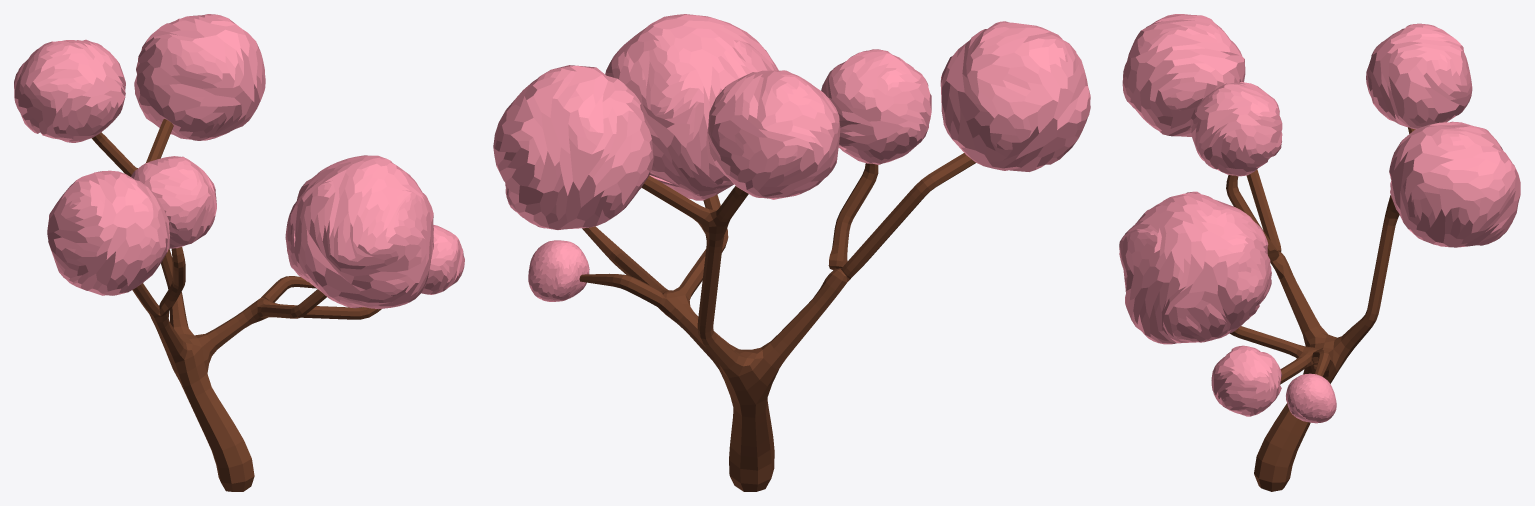
Rendered from Blossom Tree High.fbx.
3 renders of one model, left to right at view 1: azimuth 30°, elevation 25°; view 2: azimuth 150°, elevation 25°; view 3: azimuth 270°, elevation 25°, orthographic. The views are drawn at different scales.
Parts seen in each view (by area): view 1: DualMesh.004, DualMesh.009, Cube, DualMesh.019, DualMesh.013, DualMesh.016, DualMesh.006; view 2: Cube, DualMesh.009, DualMesh.019, DualMesh.004, DualMesh.013, DualMesh.016, DualMesh.020; view 3: DualMesh.004, DualMesh.009, Cube, DualMesh.019, DualMesh.013, DualMesh.016, DualMesh.006, DualMesh.020.
Part boxes in pixels (x1,y1,x2,y2): DualMesh.004: (285, 155, 433, 309); DualMesh.009: (134, 14, 265, 140); Cube: (91, 119, 381, 491); DualMesh.019: (47, 170, 170, 295); DualMesh.013: (14, 39, 125, 142); DualMesh.016: (131, 156, 216, 248); DualMesh.006: (421, 225, 464, 294); Cube: (579, 153, 975, 491); DualMesh.009: (493, 65, 653, 229); DualMesh.019: (940, 21, 1090, 171); DualMesh.004: (605, 14, 778, 200); DualMesh.013: (707, 70, 840, 199); DualMesh.016: (821, 49, 931, 164); DualMesh.020: (528, 240, 589, 301); DualMesh.004: (1119, 191, 1271, 344); DualMesh.009: (1389, 121, 1520, 247); Cube: (1226, 127, 1415, 491); DualMesh.019: (1122, 14, 1245, 136); DualMesh.013: (1366, 23, 1472, 129); DualMesh.016: (1190, 82, 1282, 176); DualMesh.006: (1211, 345, 1282, 416); DualMesh.020: (1286, 373, 1336, 423).
Bounding box in the file's own units: 473 × 433 × 379.
